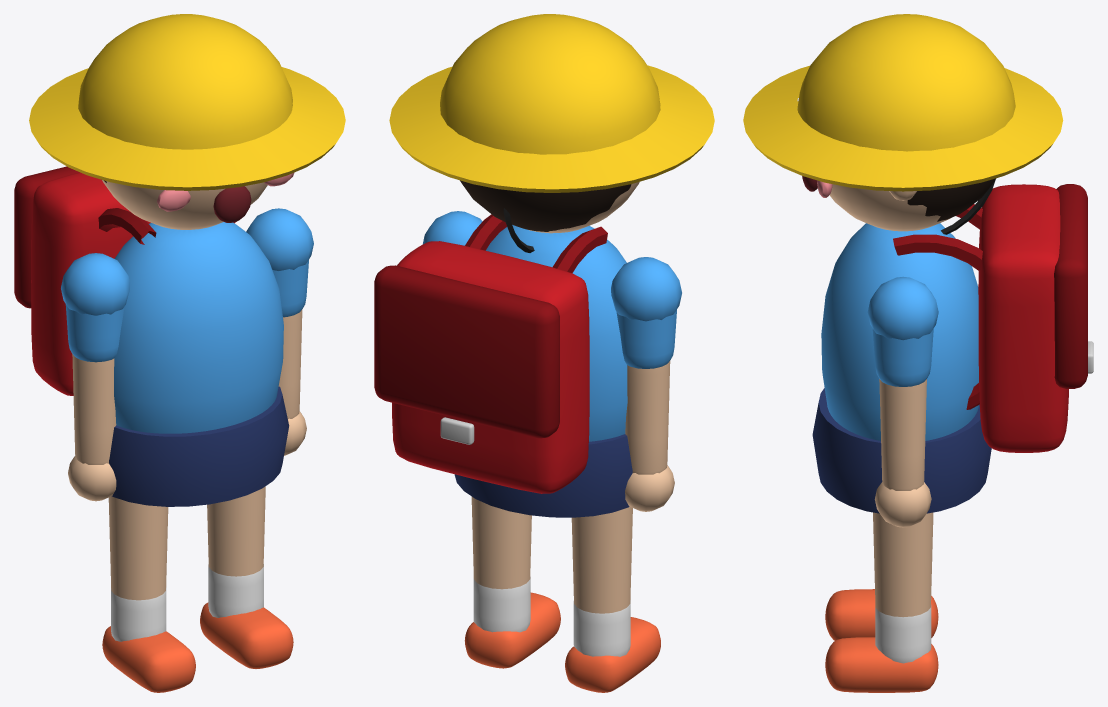
The model's file is kid.glb.
3 renders of one model, left to right at view 1: azimuth 30°, elevation 25°; view 2: azimuth 150°, elevation 25°; view 3: azimuth 270°, elevation 25°, orthographic. The views are drawn at different scales.
Parts seen in each view (by area): view 1: kid_torso, kid_face, kid_leg_mesh_r, kid_arm_mesh_r, kid_leg_mesh_l, kid_arm_mesh_l, kid_mouth_mesh; view 2: kid_torso, kid_face, kid_arm_mesh_r, kid_leg_mesh_r, kid_leg_mesh_l, kid_arm_mesh_l; view 3: kid_torso, kid_face, kid_arm_mesh_l, kid_leg_mesh_l, kid_leg_mesh_r.
Boxes of the visible parts, x1,y1,x2,y2 form: kid_torso: (14,166,289,506); kid_face: (29,14,345,229); kid_leg_mesh_r: (102,496,195,692); kid_arm_mesh_r: (61,253,129,501); kid_leg_mesh_l: (200,486,293,668); kid_arm_mesh_l: (246,208,313,455); kid_mouth_mesh: (213,186,251,222); kid_torso: (374,214,632,517); kid_face: (389,14,714,252); kid_arm_mesh_r: (611,257,681,511); kid_leg_mesh_r: (565,506,660,692); kid_leg_mesh_l: (464,497,560,668); kid_arm_mesh_l: (422,211,482,245); kid_torso: (812,184,1093,513); kid_face: (743,14,1063,234); kid_arm_mesh_l: (867,276,938,527); kid_leg_mesh_l: (825,512,938,692); kid_leg_mesh_r: (825,589,938,640).
Bounding box in the file's own units: 0.45 × 0.9897 × 0.493.
